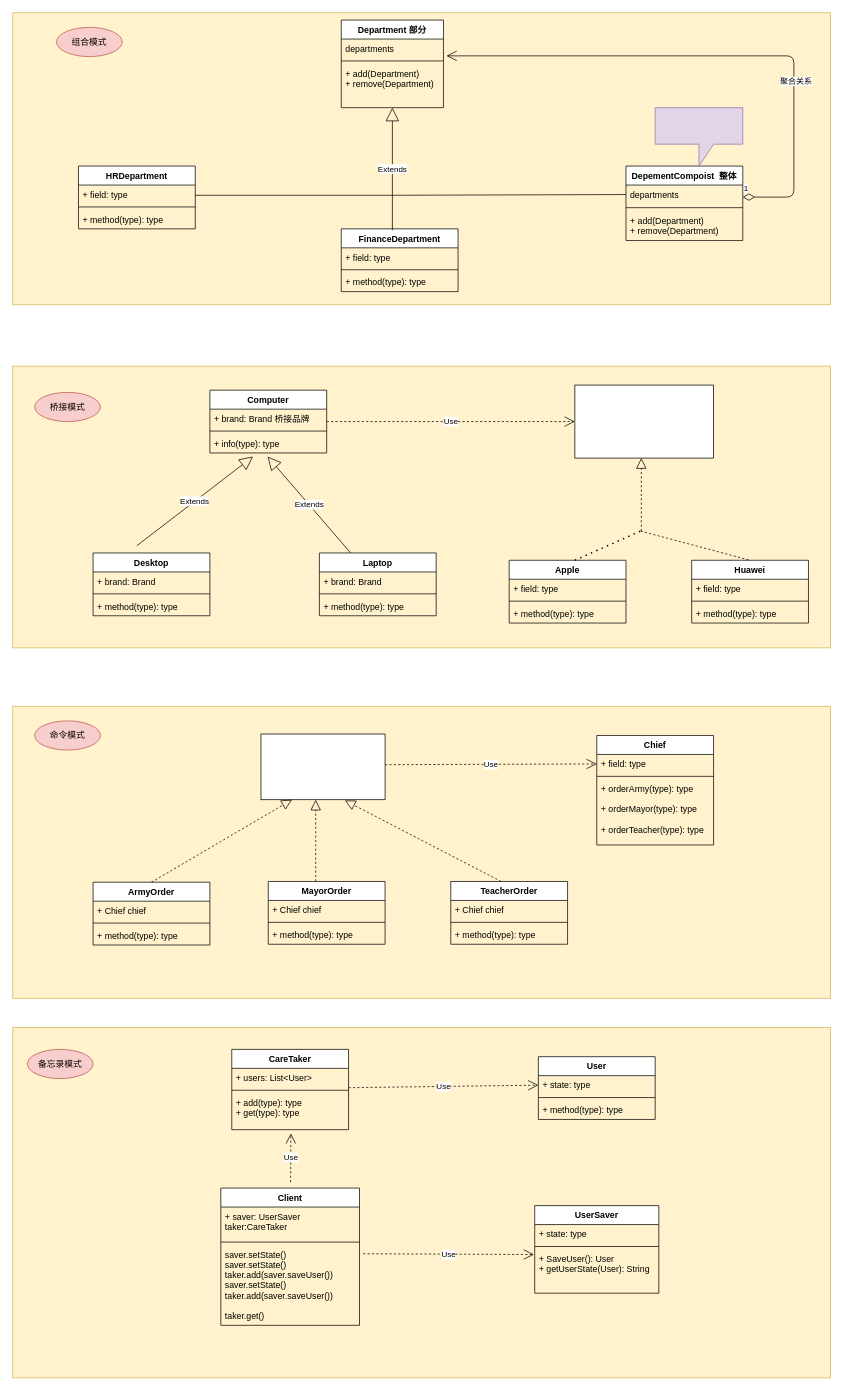
This 843x1391 diagram has some shape labels left out. Each missing label, with the centre of its shape:
"<<Interface>> Brand + info(Type): Type" goes at pixel 644 421.
"<<Interface>> Order + Chief chief + execute()" goes at pixel 322 766.
"容器，存放所有子类" goes at pixel 698 136.
